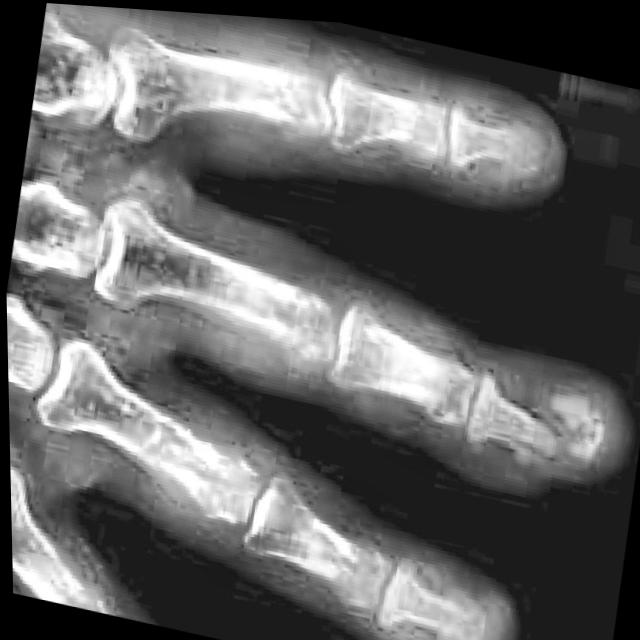fracture: (534, 395, 588, 456)
